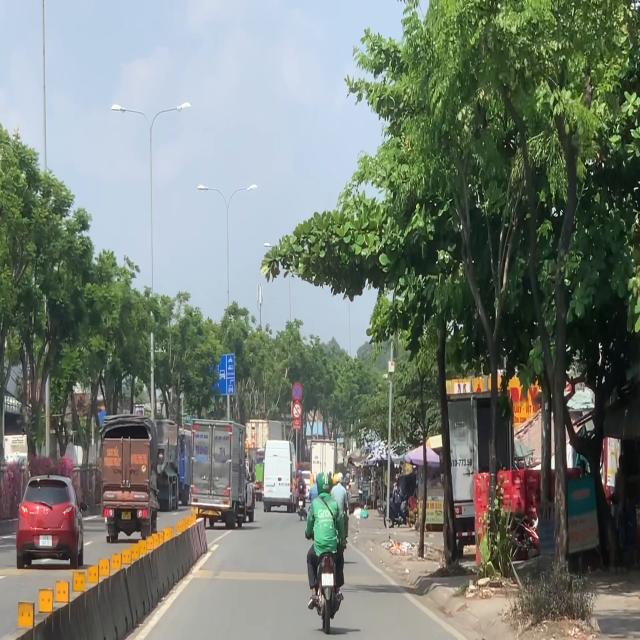Cam con lai: (292, 402, 302, 420)
Cam dung va do: (292, 382, 302, 401)
